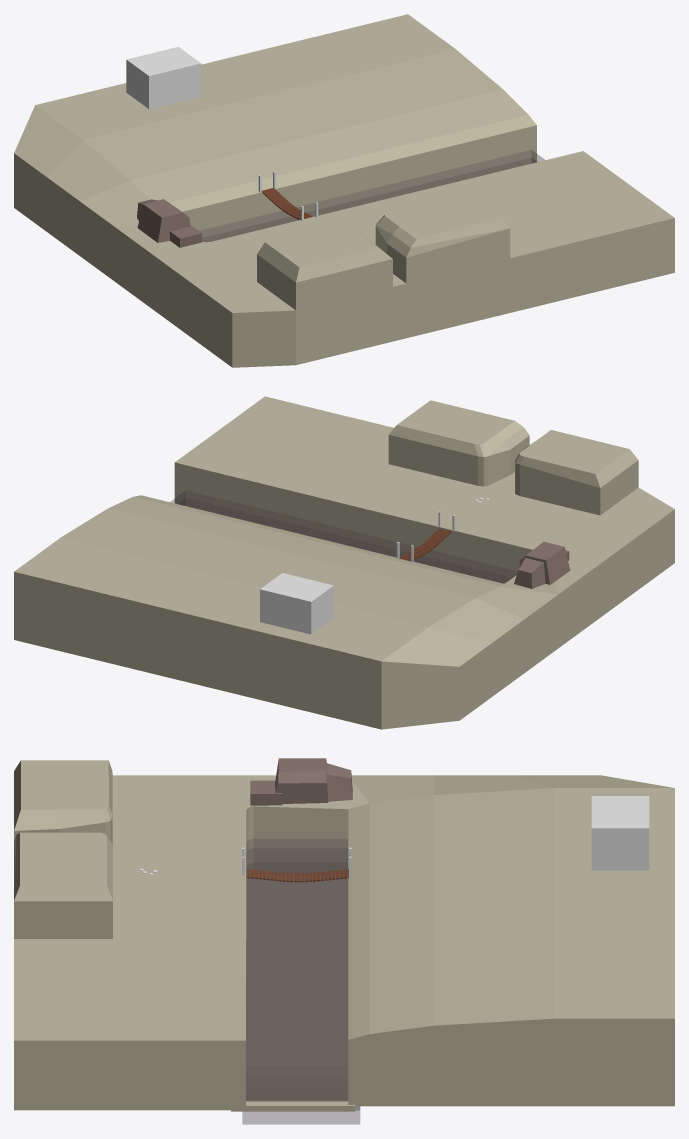
Rendered from abism_model.glb.
3 views of the same model, one above another, from view 1: azimuth 30°, elevation 25°; view 2: azimuth 150°, elevation 25°; view 3: azimuth 270°, elevation 25° (orthographic). The views are drawn at different scales.
Visible parts, largest first — view 1: Cube, Cube.009, Cube.002, Cube.001, Cube.010, Cube.003; view 2: Cube, Cube.009, Cube.002, Cube.010, Cube.001, Cube.003; view 3: Cube, Cube.009, Cube.010, Cube.002, Cube.001, Cube.011, Cube.003.
Boxes of the visible parts, box(x1,y1,x2,y2) form: Cube: box(14, 14, 674, 367); Cube.009: box(200, 150, 544, 241); Cube.002: box(126, 47, 201, 109); Cube.001: box(137, 199, 201, 247); Cube.010: box(202, 158, 536, 241); Cube.003: box(261, 188, 312, 219); Cube: box(14, 396, 674, 729); Cube.009: box(171, 491, 517, 582); Cube.002: box(260, 573, 333, 634); Cube.010: box(179, 498, 510, 582); Cube.001: box(514, 542, 570, 588); Cube.003: box(399, 528, 451, 561); Cube: box(14, 760, 674, 1111); Cube.009: box(246, 839, 347, 1100); Cube.010: box(246, 849, 359, 1110); Cube.002: box(591, 796, 649, 870); Cube.001: box(250, 758, 352, 805); Cube.011: box(242, 1090, 359, 1124); Cube.003: box(246, 869, 348, 882).
Size of the model in its own units: 200 by 53.06 by 210.
